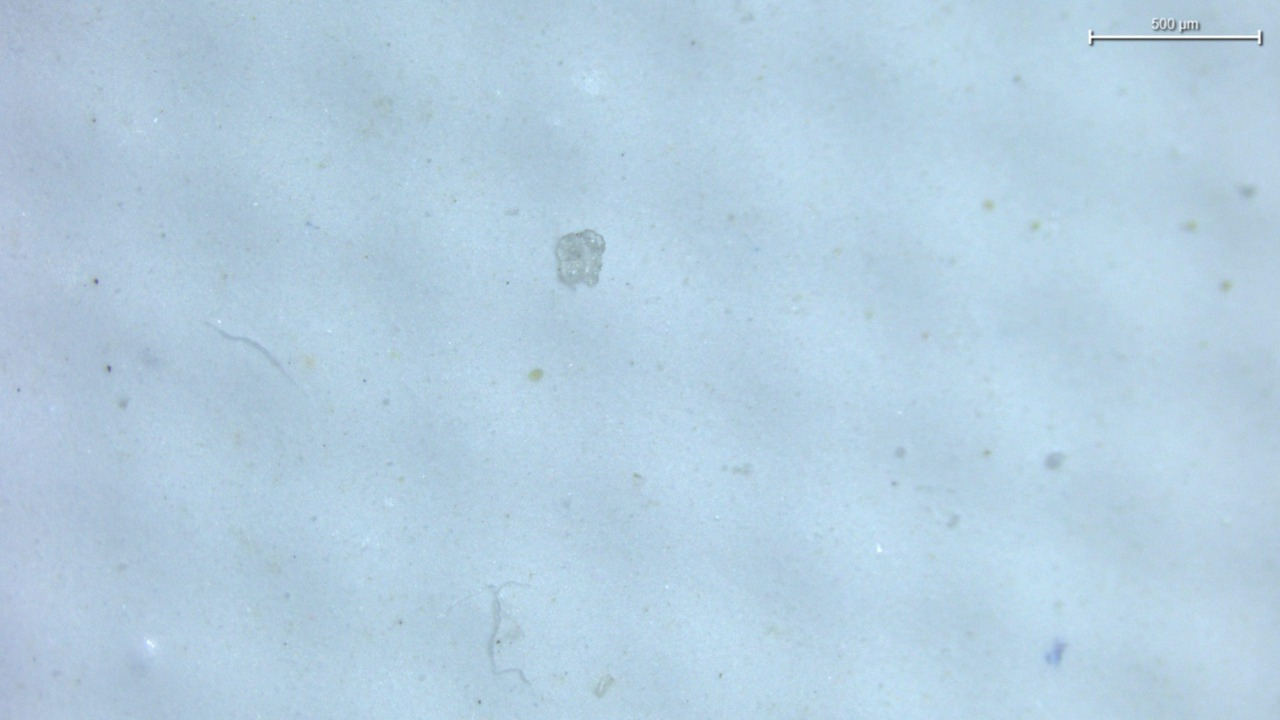microplastic_fragment: (555, 229, 605, 286)
